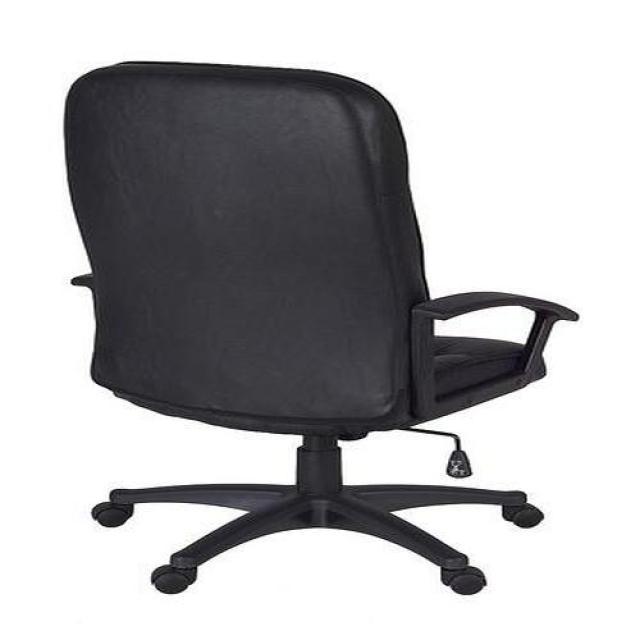swivelchair: (63, 61, 580, 599)
